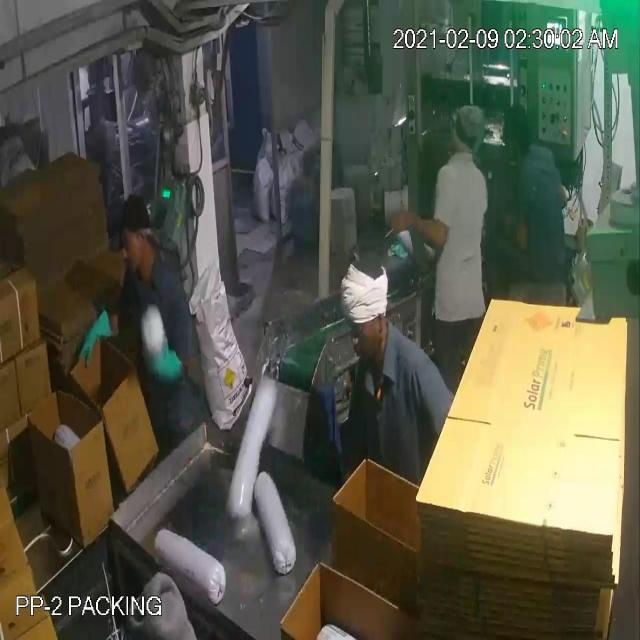Gloves: (49, 66, 419, 358)
